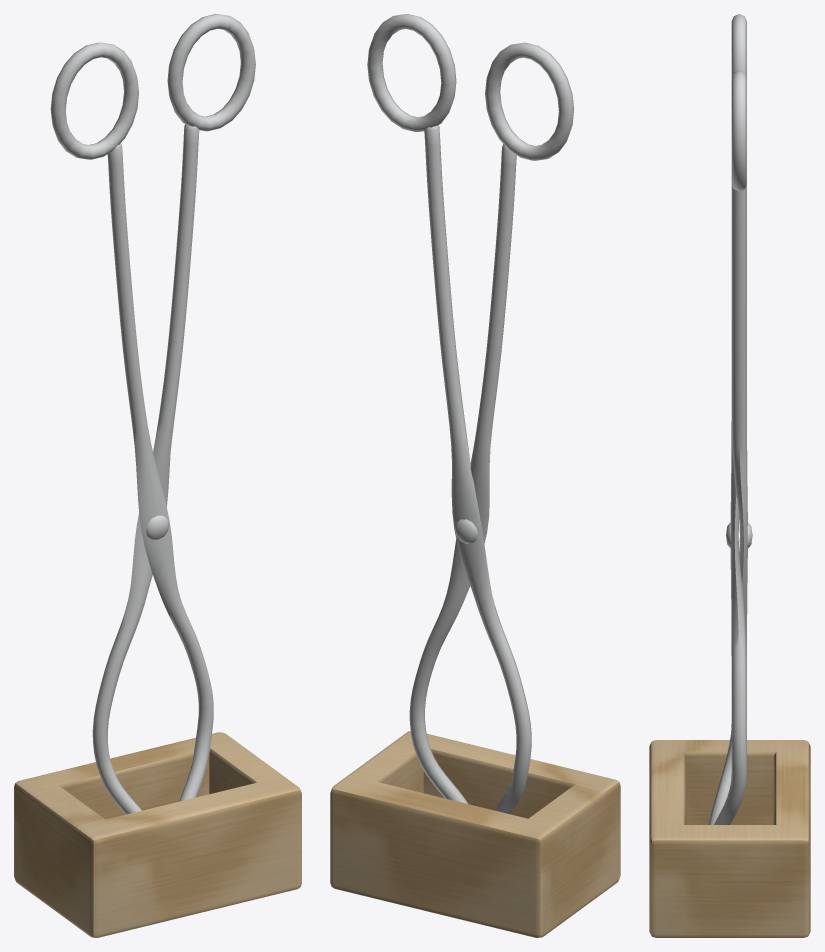
File: tongs.glb
3 renders of one model, left to right at view 1: azimuth 30°, elevation 25°; view 2: azimuth 150°, elevation 25°; view 3: azimuth 270°, elevation 25°, orthographic.
Parts seen in each view (by area): view 1: rack, tongs_mesh; view 2: rack, tongs_mesh; view 3: rack, tongs_mesh.
Boxes of the visible parts, <box> form: rack: <box>14,732,301,937</box>; tongs_mesh: <box>50,14,255,814</box>; rack: <box>330,731,620,937</box>; tongs_mesh: <box>367,14,573,813</box>; rack: <box>649,740,810,937</box>; tongs_mesh: <box>708,14,752,824</box>.
Size of the model in its own units: 0.078 by 0.3001 by 0.052.
Materials: 2 (1 with a texture image).
